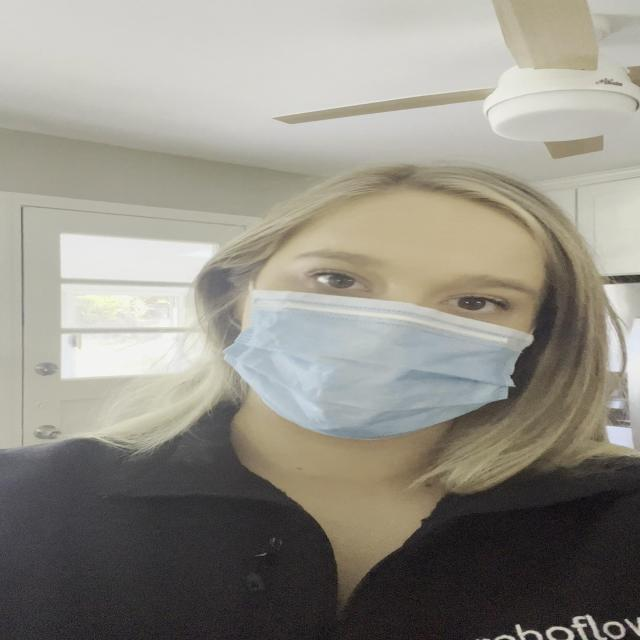no-helmet: (184, 185, 586, 457)
